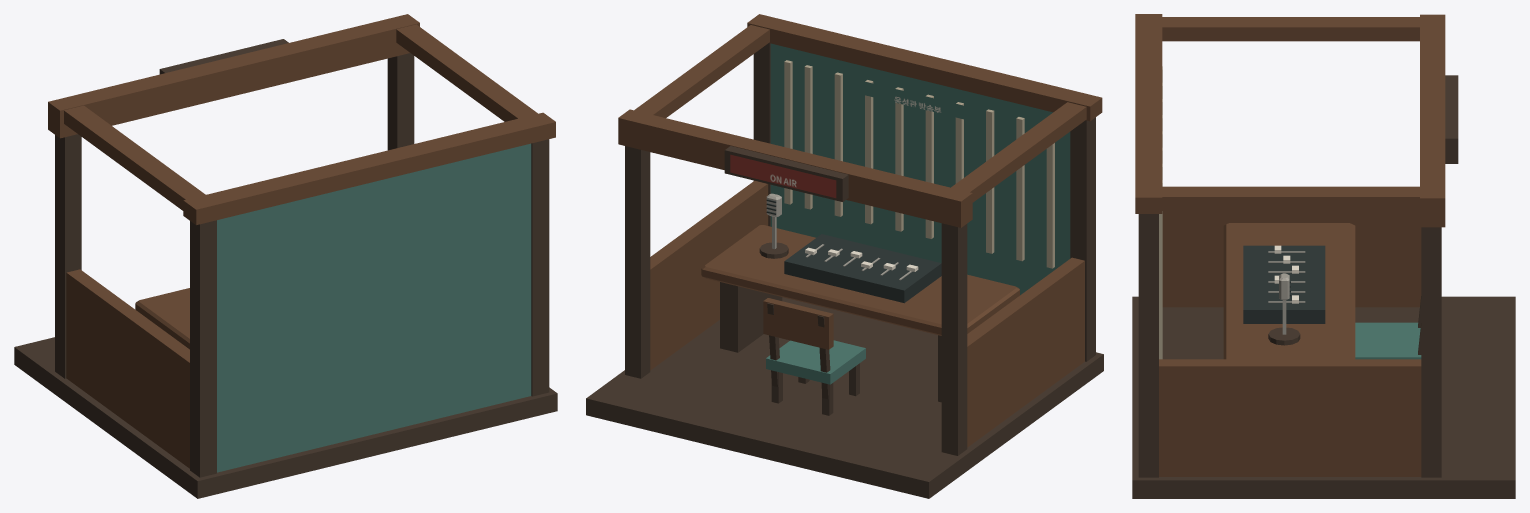
File: W06_Radio_Booth.fbx
3 views of the same model, side by side, from view 1: azimuth 30°, elevation 25°; view 2: azimuth 150°, elevation 25°; view 3: azimuth 270°, elevation 25° (orthographic). The views are drawn at different scales.
Visible parts, largest first — view 1: Structure, Desk, ON_AIR_Light; view 2: Structure, Desk, Chair, ON_AIR_Light, Microphone; view 3: Structure, Desk, Chair, ON_AIR_Light, Microphone.
Part boxes in pixels (bbox=[...]): Structure: bbox=[14, 14, 557, 498]; Desk: bbox=[135, 288, 189, 349]; ON_AIR_Light: bbox=[159, 39, 288, 74]; Structure: bbox=[586, 14, 1103, 498]; Desk: bbox=[701, 225, 1019, 402]; Chair: bbox=[763, 298, 865, 415]; ON_AIR_Light: bbox=[724, 146, 848, 201]; Microphone: bbox=[759, 193, 788, 258]; Structure: bbox=[1132, 14, 1515, 498]; Desk: bbox=[1223, 223, 1355, 359]; Chair: bbox=[1355, 296, 1421, 359]; ON_AIR_Light: bbox=[1445, 75, 1458, 163]; Microphone: bbox=[1268, 273, 1300, 345].
Size of the model in its own units: 3.4 by 2.6 by 3.
Materials: 8 (1 with a texture image).
